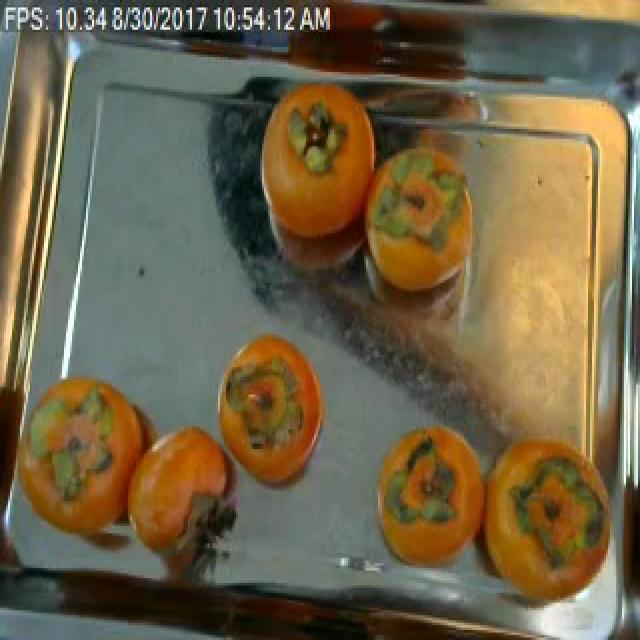Fruit: (242, 72, 390, 283), (206, 320, 336, 506), (372, 412, 494, 536)
